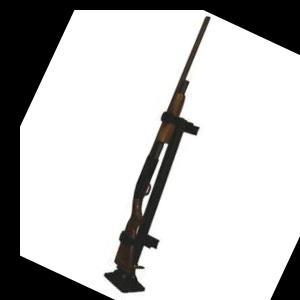larga: (113, 16, 213, 272)
